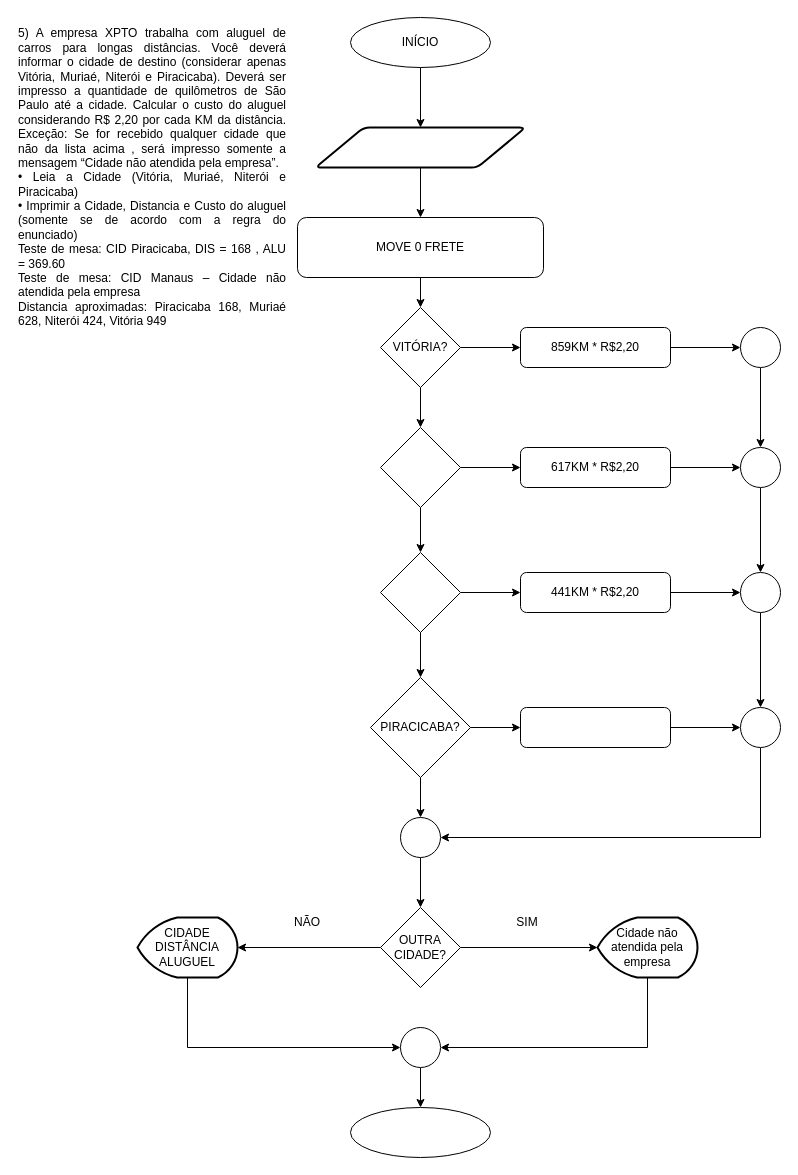
This 798x1175 diagram has some shape labels left out. Here are the shapes that lost their labels. From the top down, the centre of each, then its label:
At point 420,147: "CIDADE".
At point 420,467: "MURIAÉ?".
At point 420,592: "NITERÓI?".
At point 595,727: "157KM * R$2,20".
At point 420,1132: "FIM".
